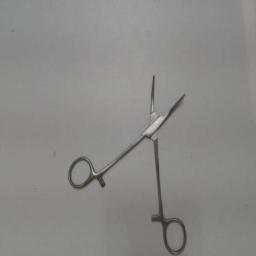Crile Artery Forceps: (65, 71, 189, 255)
